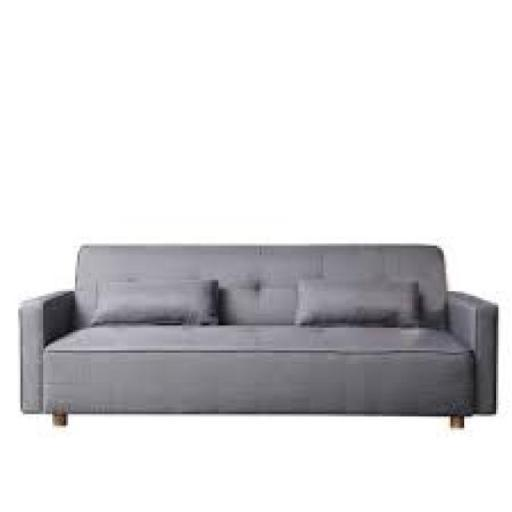sofa: (0, 215, 512, 509)
